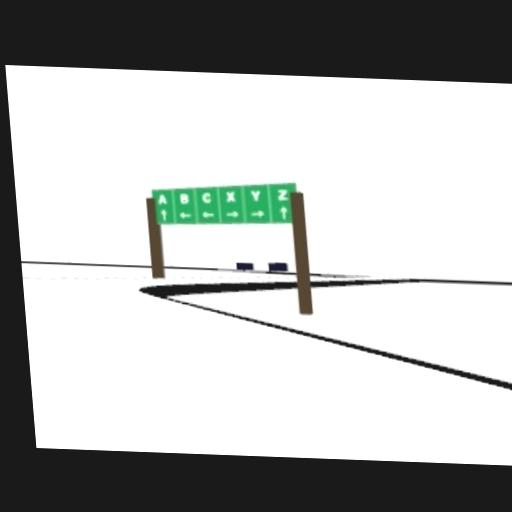A: (157, 192, 166, 203)
B: (177, 190, 188, 202)
C: (200, 190, 211, 202)
Left: (178, 210, 192, 216), (201, 210, 215, 216)
Right: (250, 208, 265, 216), (225, 211, 239, 217)
Straight: (278, 205, 287, 219), (160, 206, 167, 219)
X: (224, 189, 235, 201)
Y: (250, 189, 261, 201)
Z: (277, 188, 287, 200)
